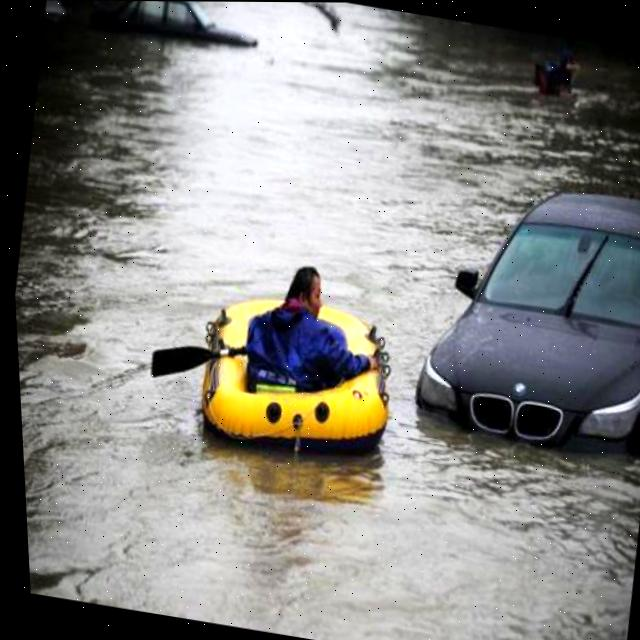civilian: (204, 240, 391, 402)
